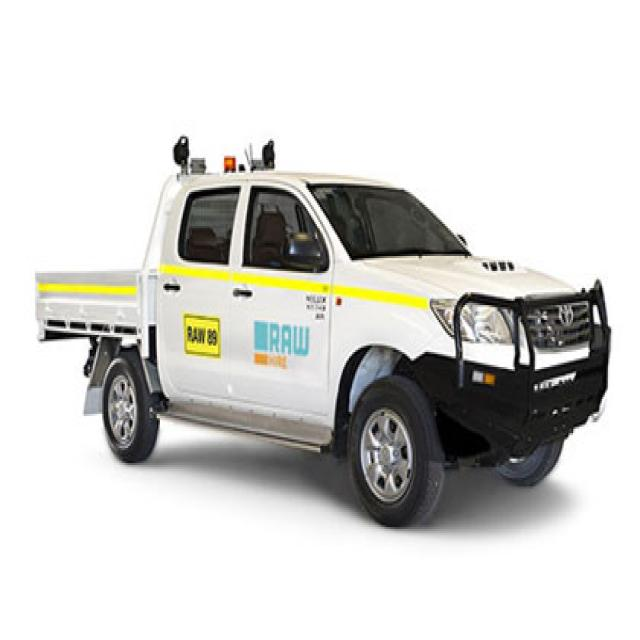light_vehicle: (29, 132, 611, 538)
